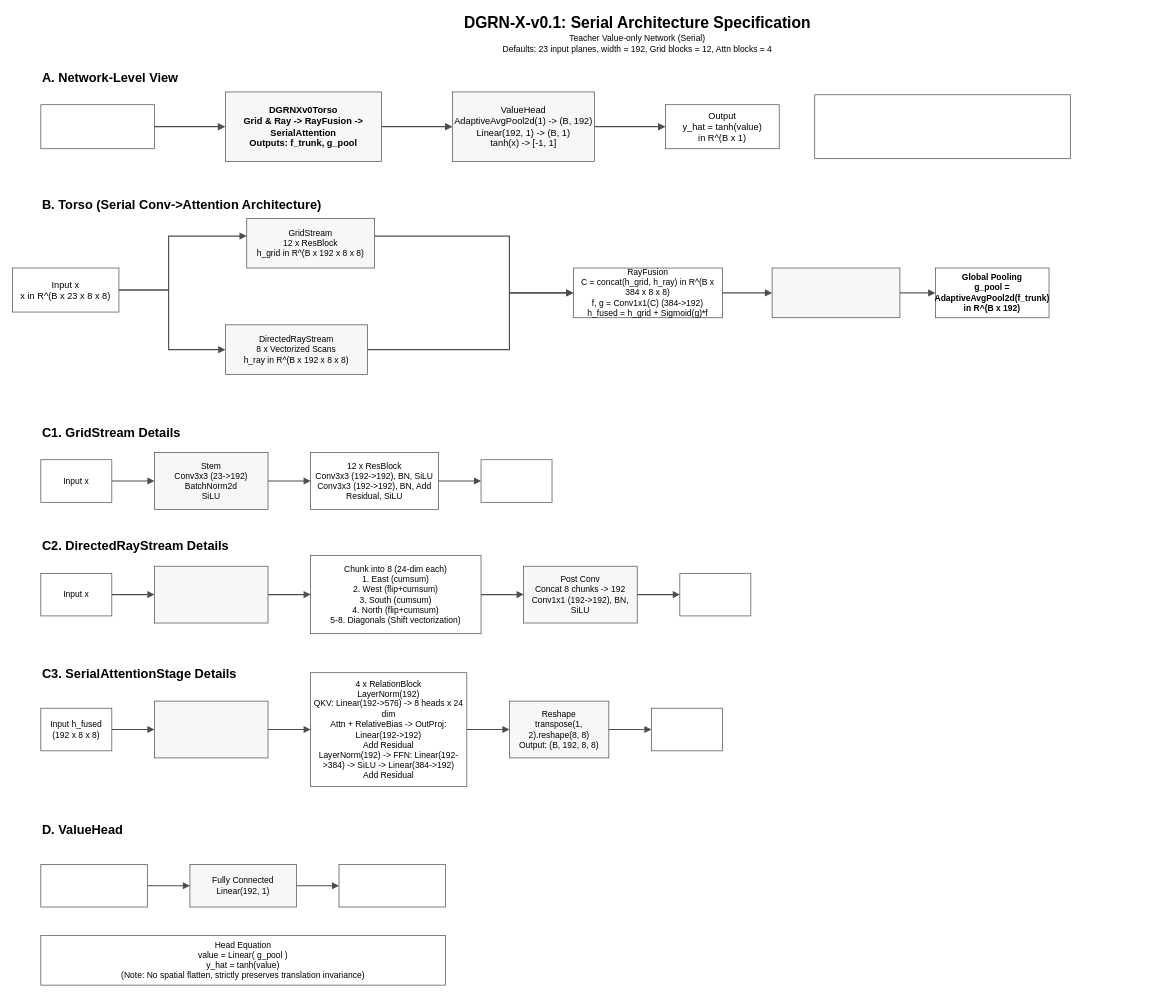
The diagram is 1175 pixels wide and 998 high, and some of its shapes have lost their labels. Here are the shapes that lost their labels. From the top down, the box of each, then its label:
(40, 104, 154, 149): Input tensor X in R^(B x 23 x 8 x 8)
(814, 94, 1070, 159): Overall mapping X -> Torso(X) -> g_pool -> Head(g_pool) -> y_hat
(771, 267, 900, 318): SerialAttentionStage 4 x RelationBlock f_trunk in R^(B x 192 x 8 x 8)
(480, 459, 552, 502): h_grid
(154, 566, 268, 623): Pre Conv Conv1x1 (23->192) BatchNorm2d, SiLU
(679, 573, 751, 616): h_ray
(154, 700, 268, 758): Reshape flatten(2).transpose(1, 2) Output: (B, 64, 192)
(651, 708, 722, 751): f_trunk
(40, 864, 147, 907): Global Pooled Trunk g_pool in R^(B x 192)
(338, 864, 446, 907): Output Mode y_hat = tanh(value)
